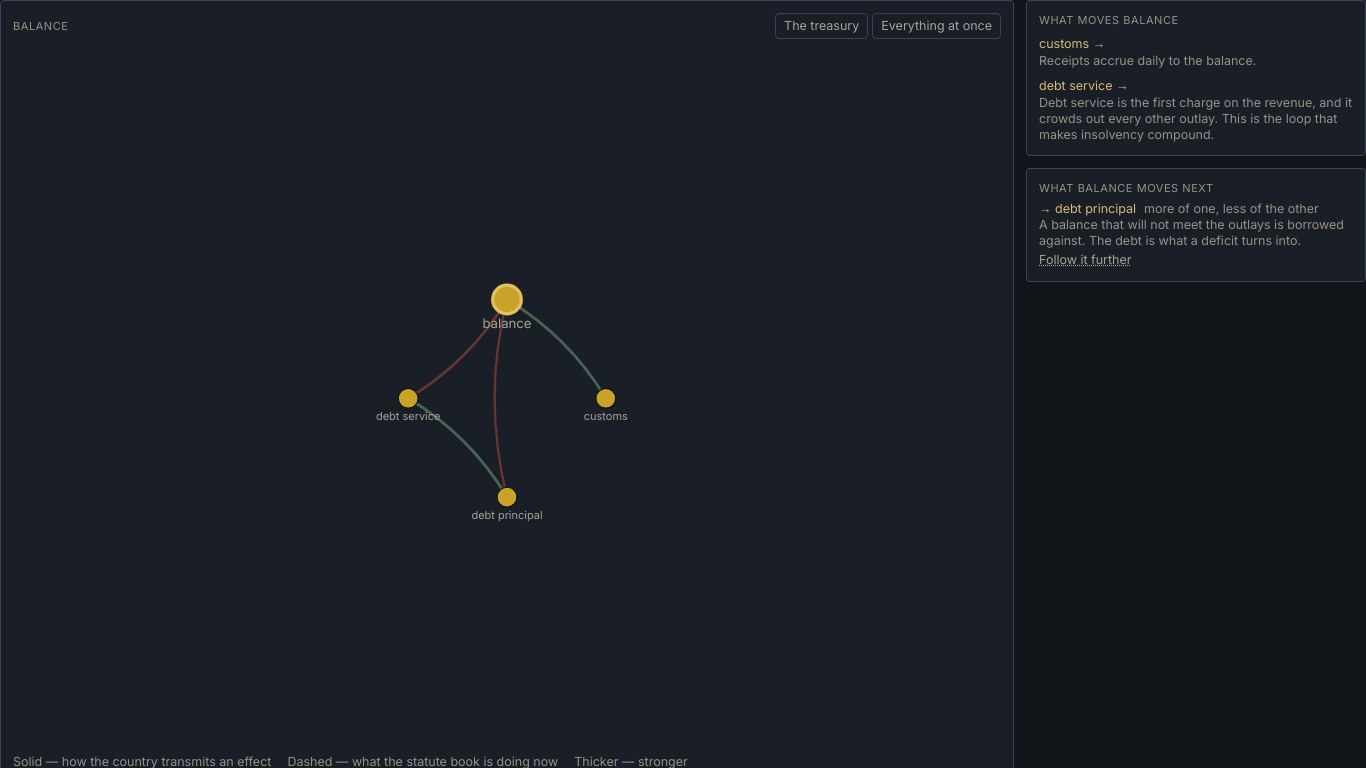
Test case: tracing a chain › reads as an argument, with the reason at each hop
Step 1. Click the button "Follow it further" → (1085, 260), box [1039,252,1132,268]
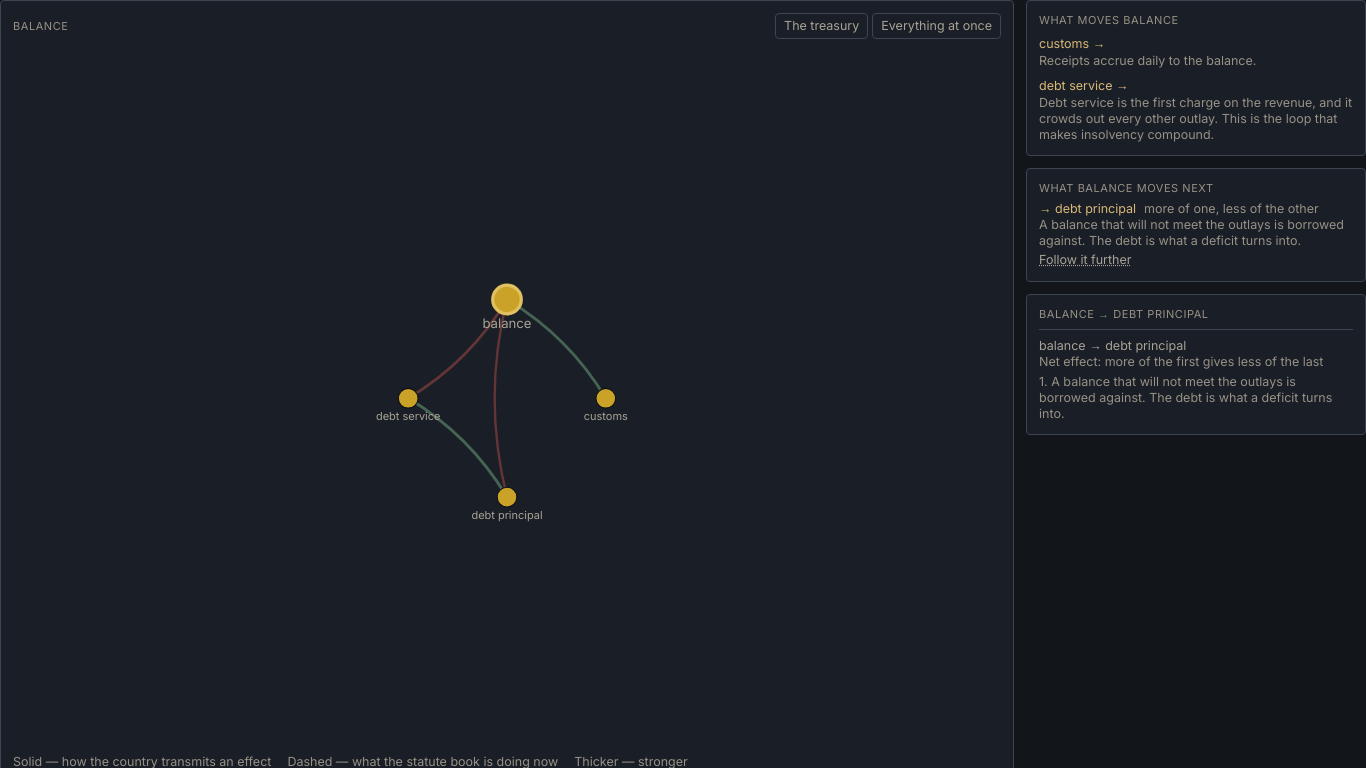
expect the element with test id "trace" shows "→": met, box [1094,307,1113,321]
expect the element with test id "trace" shows "Net effect": met, box [1039,354,1101,369]
expect the list item is shown: met, box [1039,374,1353,422]
